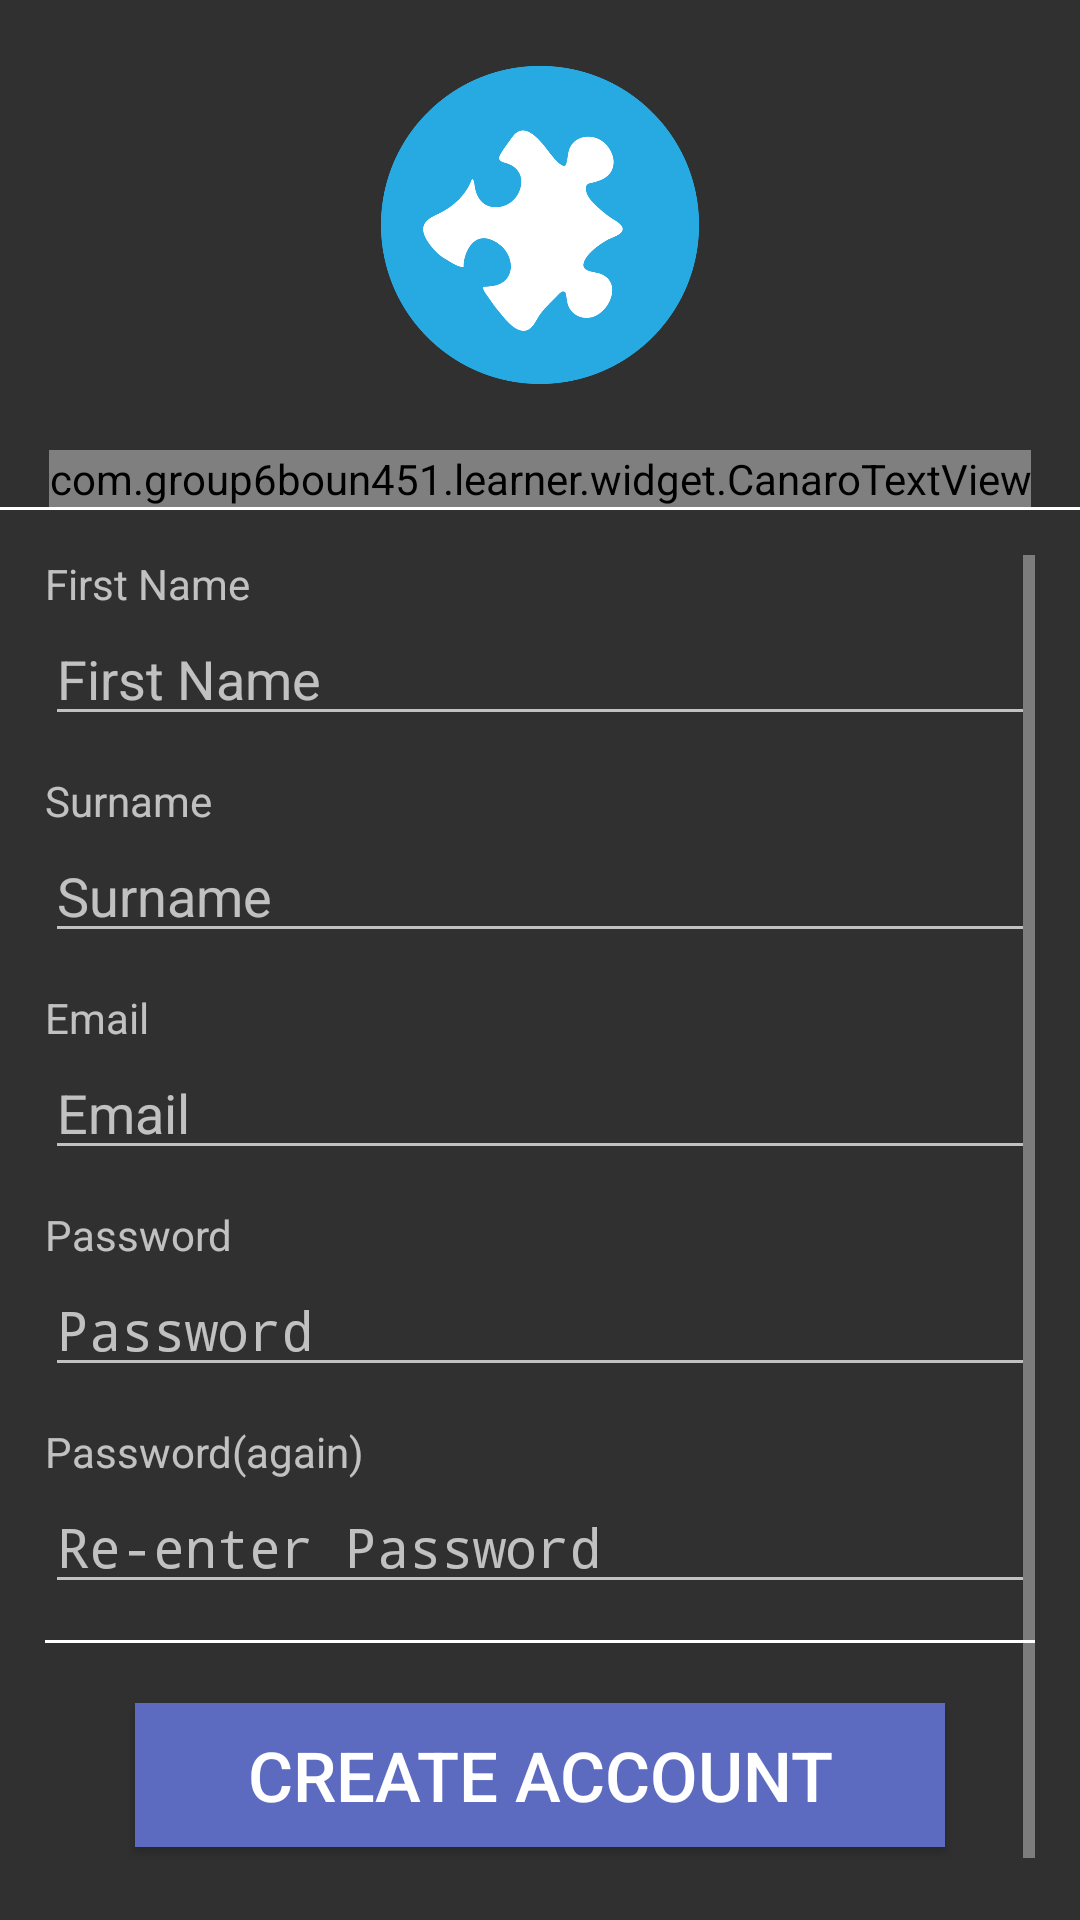

Icon click points for this 1080px x 1920px phone screenshot, format (x=x, y=y):
puzzle: (x=540, y=225)
